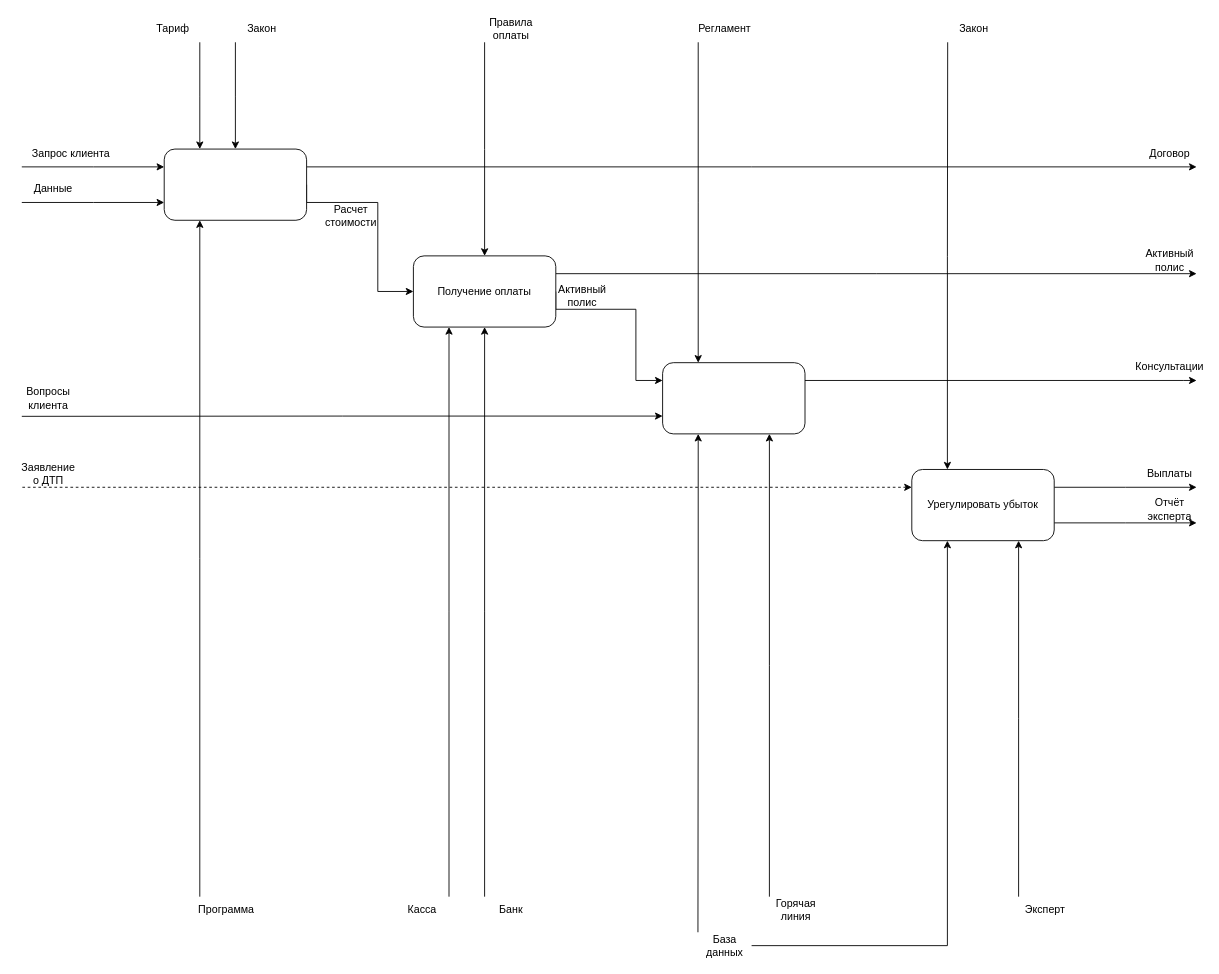
The diagram is 1219 pixels wide and 974 high, and some of its shapes have lost their labels. The shapes that lost their labels are listed below. From the top down, each one's centre as x and y in pixels, then its label:
point (235, 184): Расчет и оформление
point (733, 398): Обслуживание в течении срока
